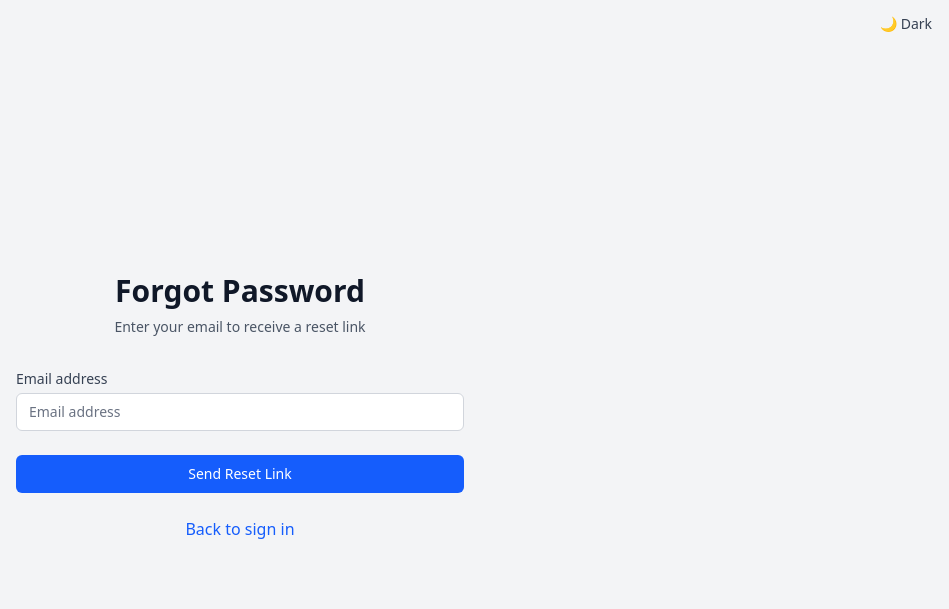
Test: Auth pages › shows forgot-password success message when request succeeds
Type "user@example.com" into the field with placeholder "Email address" at (240, 412), box x1=16 y1=393 x2=464 y2=431
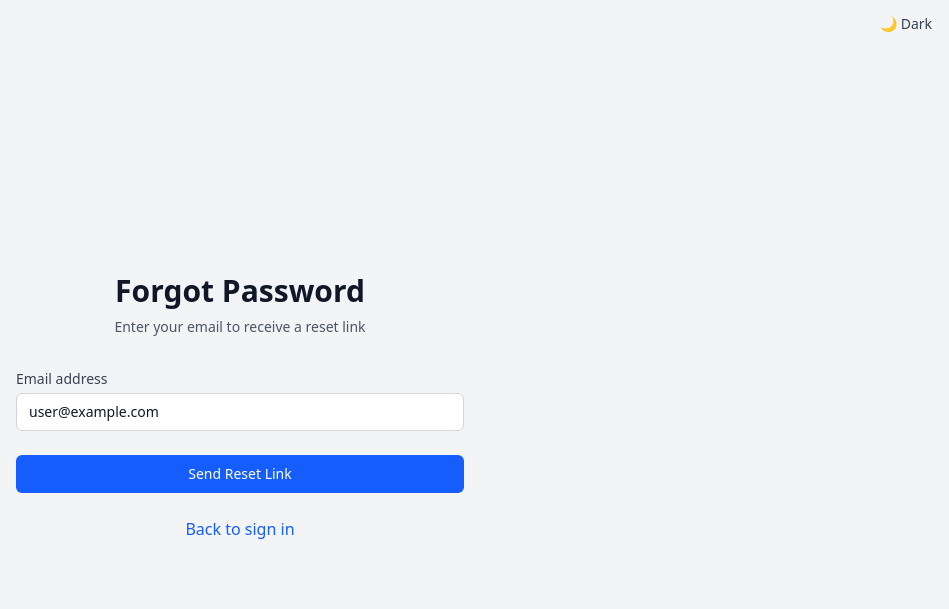
Click the button "Send Reset Link" at (240, 474), box x1=16 y1=455 x2=464 y2=493
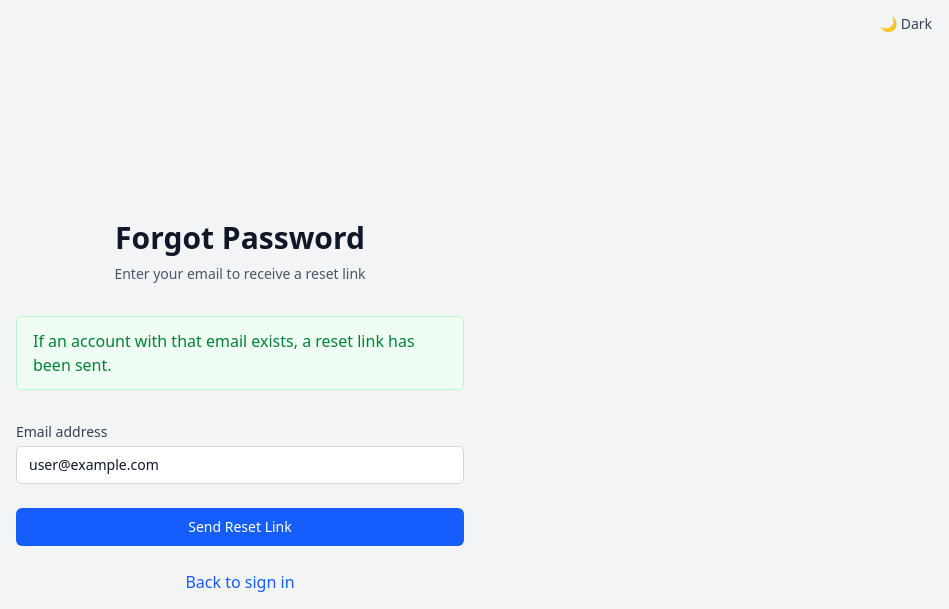
Expected: the text "If an account with that email exists, a reset link has been sent." is shown, x1=16 y1=316 x2=464 y2=390
